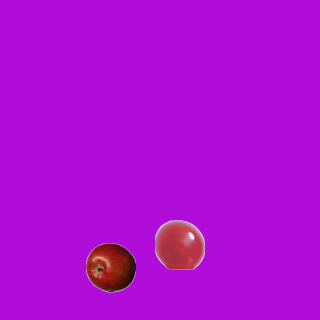Apple Braeburn: (85, 242, 135, 292)
Redcurrant: (154, 219, 204, 269)
